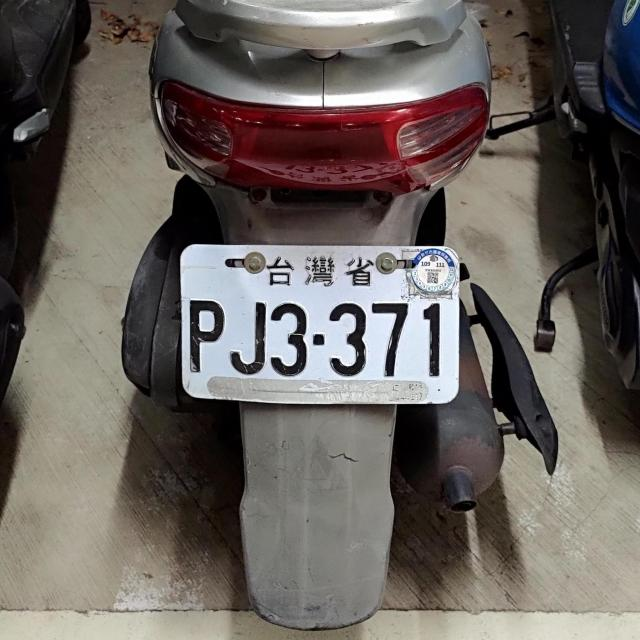W: (176, 240, 460, 404)
